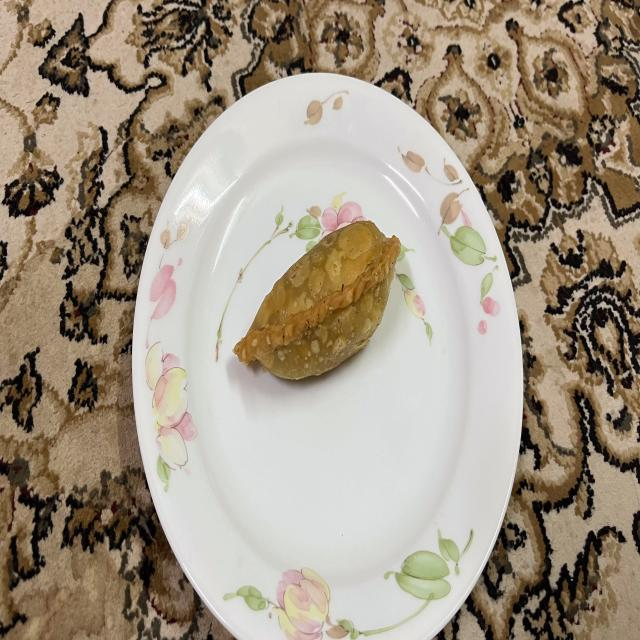karipap: (234, 220, 401, 380)
